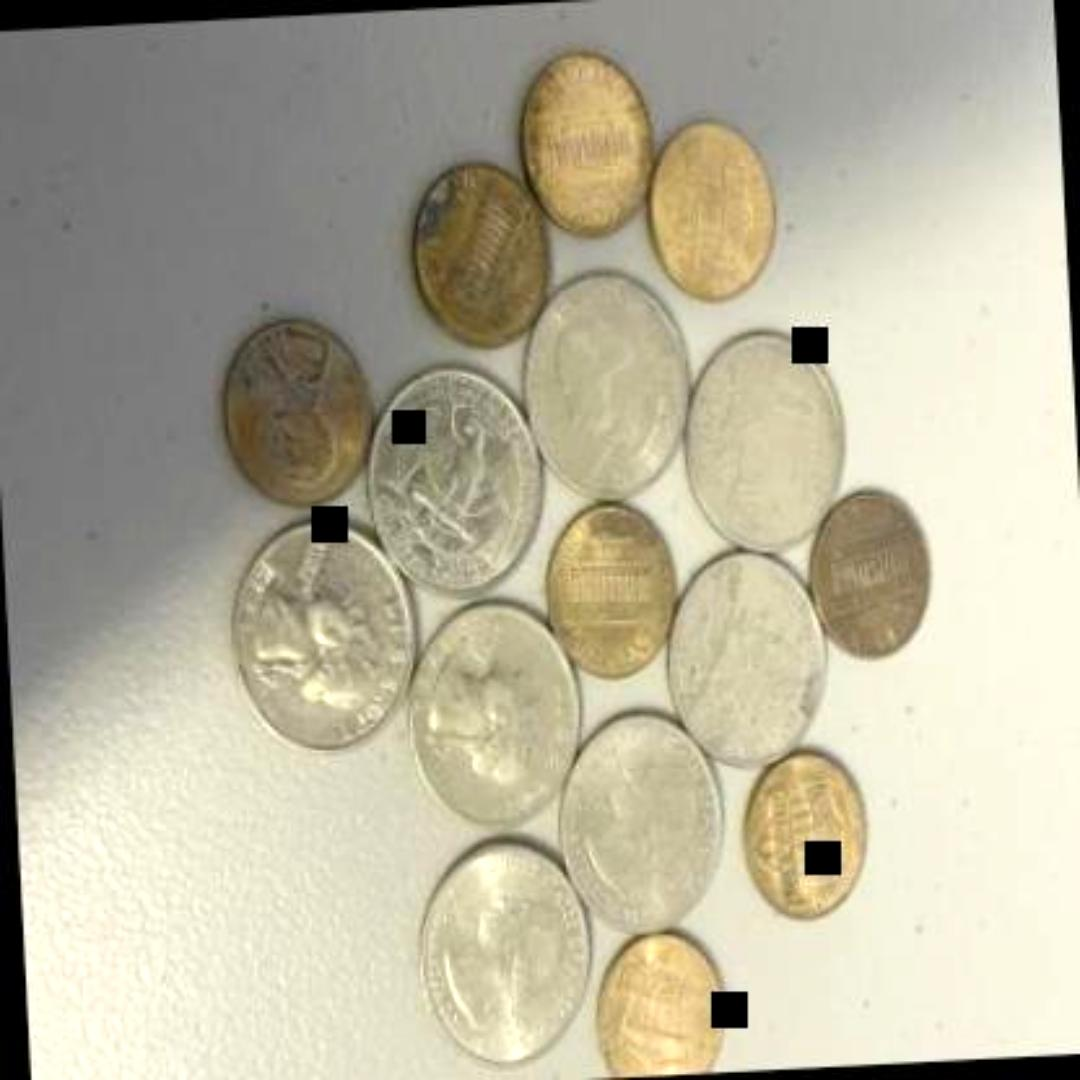Penny: (211, 312, 379, 516), (408, 150, 556, 352), (514, 46, 660, 234), (539, 494, 679, 688), (736, 744, 872, 926), (802, 488, 939, 668), (648, 118, 780, 298), (584, 928, 728, 1078)
Quarter: (225, 512, 419, 762), (413, 836, 597, 1074), (403, 593, 587, 829), (366, 360, 546, 598), (673, 324, 849, 558), (518, 270, 694, 502), (558, 712, 724, 942), (665, 549, 825, 769)
